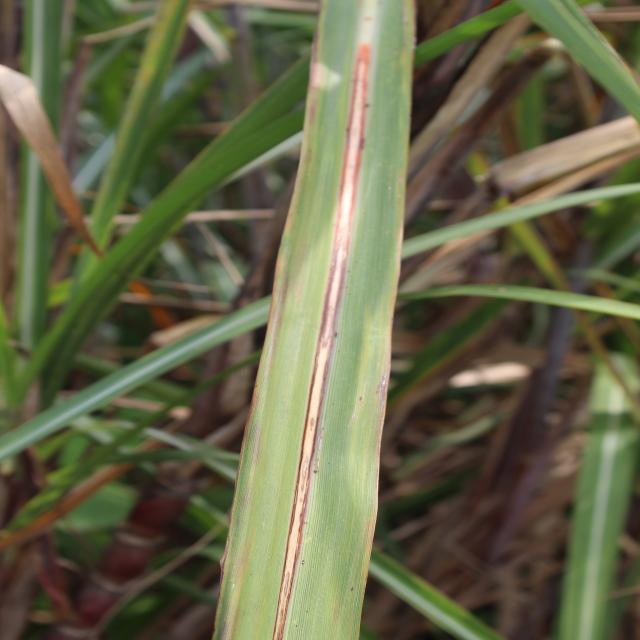Sugarcane: (220, 11, 406, 638)
